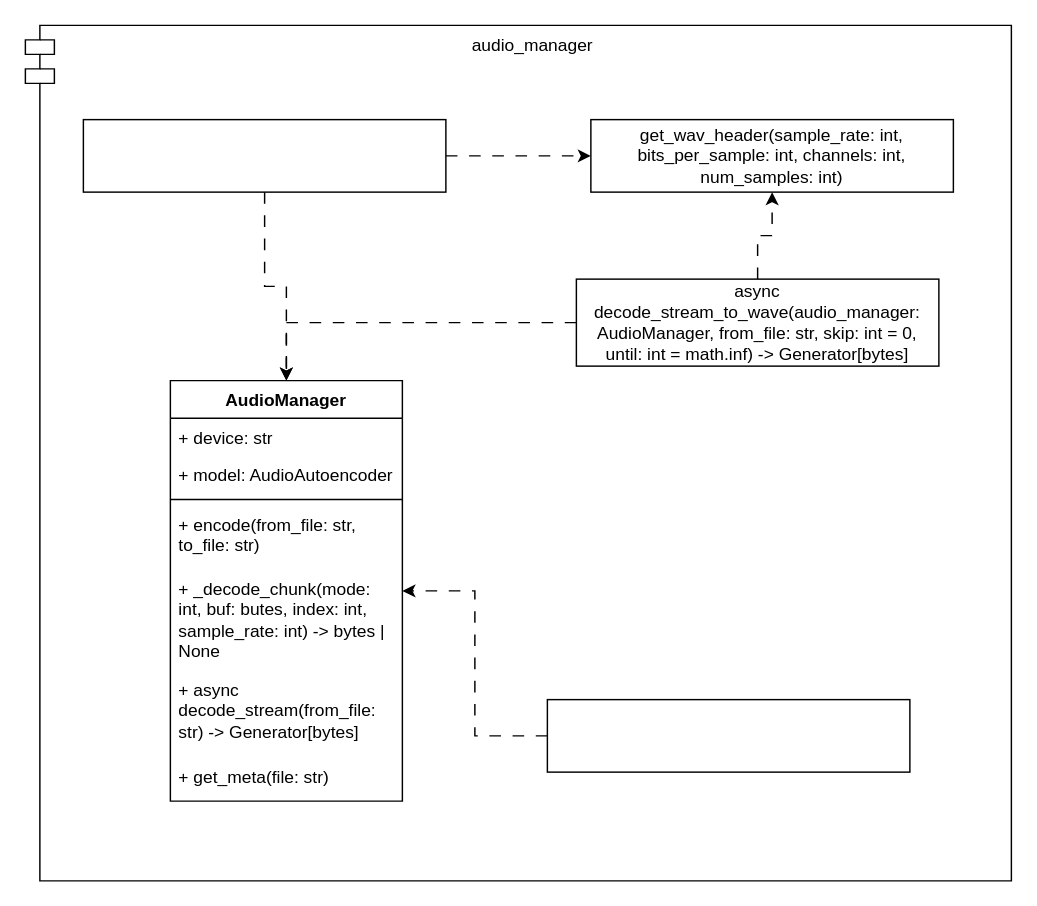
The diagram is 1037 pixels wide and 906 high, and some of its shapes have lost their labels. The shapes that lost their labels are listed below. From the top down, each one's centre as x and y in pixels, then its label:
At [264,155]: "async get_wave_meta(audio_manager: AudioManager, from_file: str) -> int | None".
At [728,735]: "async decode(audio_manager: AudioManager, from_file: str, to_file: str)".
